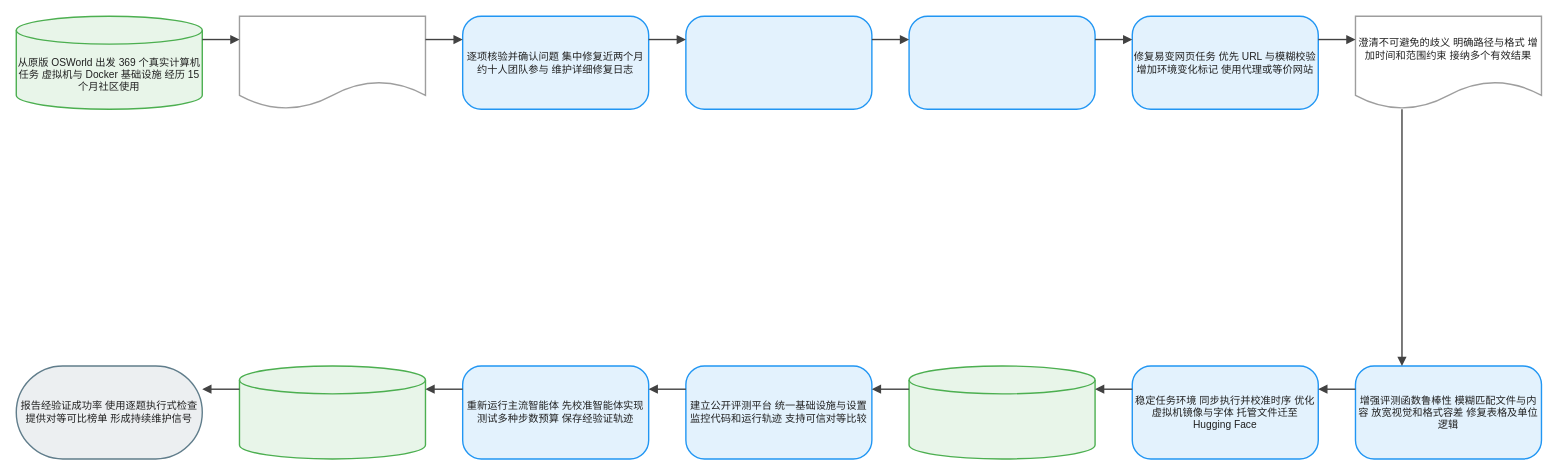
This 1559x476 diagram has some shape labels left out. Each missing label, with the centre of its shape:
分类故障来源 网页与访问条件变化 指令歧义 评测器与系统稳定性: pixel 778 62
发布 OSWorld-Verified 修复 300+ 已确认问题 保留 369 题基础集合 发布更新后的结果: pixel 332 412
将并行评测迁至 AWS 最多同时运行 50 个环境 从十余小时缩短到数分钟 提升跨次运行可比性: pixel 1001 412
收集社区反馈 来自多家研究机构 汇集所有可用反馈渠道 累计约 300 个问题: pixel 332 62
采用最小改动原则 优先修复评测器 保持任务与分数连续性 仅在必要时修改指令: pixel 1001 62
